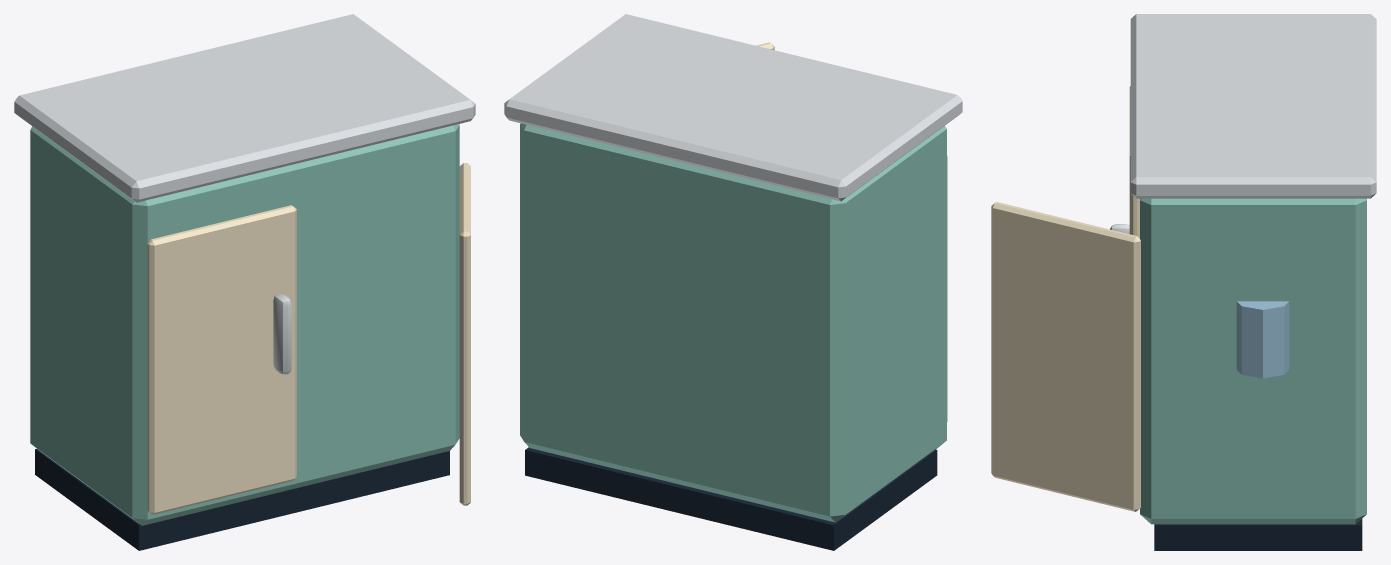
The model's file is Prop_Cabinet.fbx.
3 views of the same model, side by side, from view 1: azimuth 30°, elevation 25°; view 2: azimuth 150°, elevation 25°; view 3: azimuth 270°, elevation 25° (orthographic).
Parts seen in each view (by area): view 1: Cabinet, Top; view 2: Cabinet, Top; view 3: Top, Cabinet.
Part boxes in pixels (box(x1,y1,x2,y2)): Cabinet: box(30, 124, 459, 550); Top: box(14, 14, 475, 514); Cabinet: box(520, 123, 946, 550); Top: box(504, 14, 962, 421); Top: box(991, 14, 1376, 511); Cabinet: box(1140, 198, 1366, 550).
Size of the model in its own units: 4.32 by 4.43 by 4.07.
